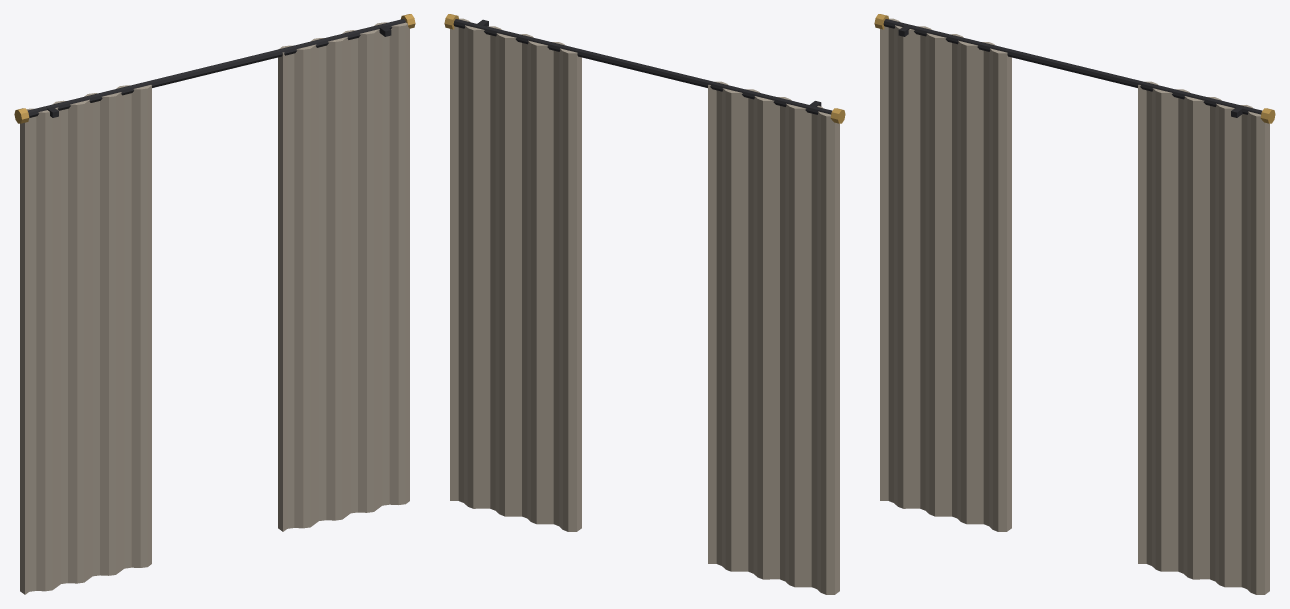
The model's file is FN_Curtain_Pair.glb.
3 renders of one model, left to right at view 1: azimuth 30°, elevation 25°; view 2: azimuth 150°, elevation 25°; view 3: azimuth 330°, elevation 25°, orthographic.
Visible parts, largest first — view 1: FN_Curtain_Pair; view 2: FN_Curtain_Pair; view 3: FN_Curtain_Pair.
Part boxes in pixels (x1=…): FN_Curtain_Pair: x1=14, y1=14, x2=415, y2=594; FN_Curtain_Pair: x1=444, y1=14, x2=845, y2=594; FN_Curtain_Pair: x1=874, y1=14, x2=1275, y2=594.
Bounding box in the file's own units: 1.8 × 2.12 × 0.0931.
Materials: 1 (1 with a texture image).
